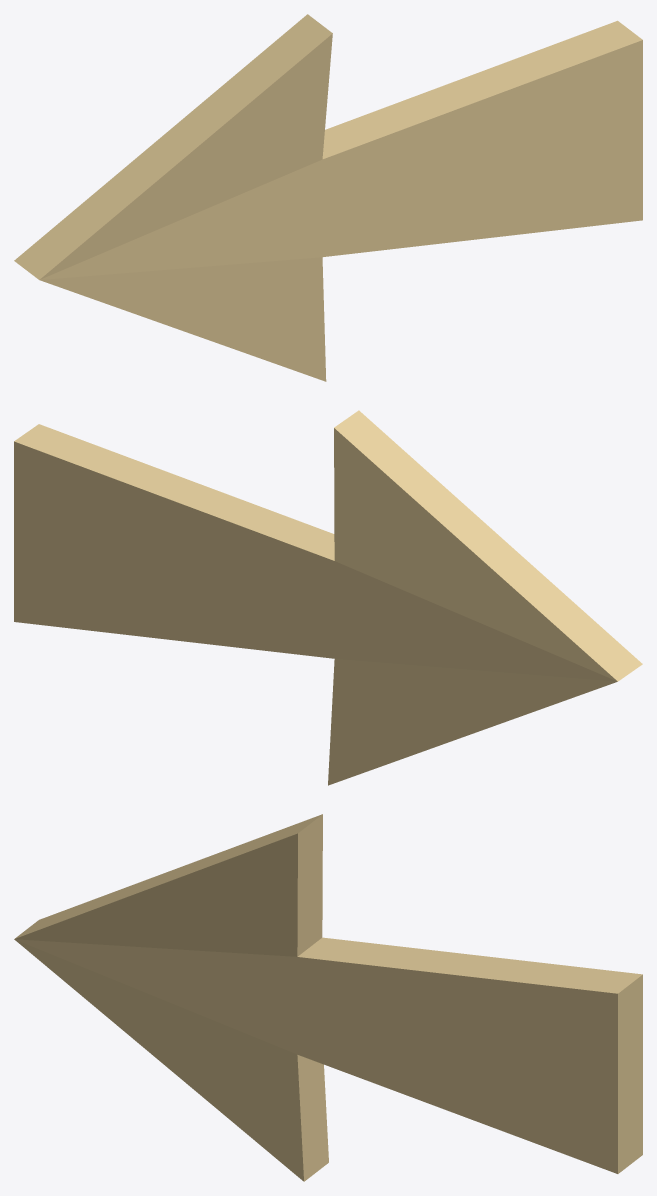
File: arrow.glb
The picture shows the model from 3 angles, top to bottom: view 1: azimuth 30°, elevation 25°; view 2: azimuth 150°, elevation 25°; view 3: azimuth 330°, elevation 25°; orthographic projection.
Visible parts, largest first — view 1: model:arrow; view 2: model:arrow; view 3: model:arrow.
Part boxes in pixels (box(x1,y1,x2,y2)): model:arrow: box(14, 14, 642, 381); model:arrow: box(14, 410, 642, 785); model:arrow: box(14, 814, 642, 1181).
Size of the model in its own units: 3.57 by 2 by 0.3221.
